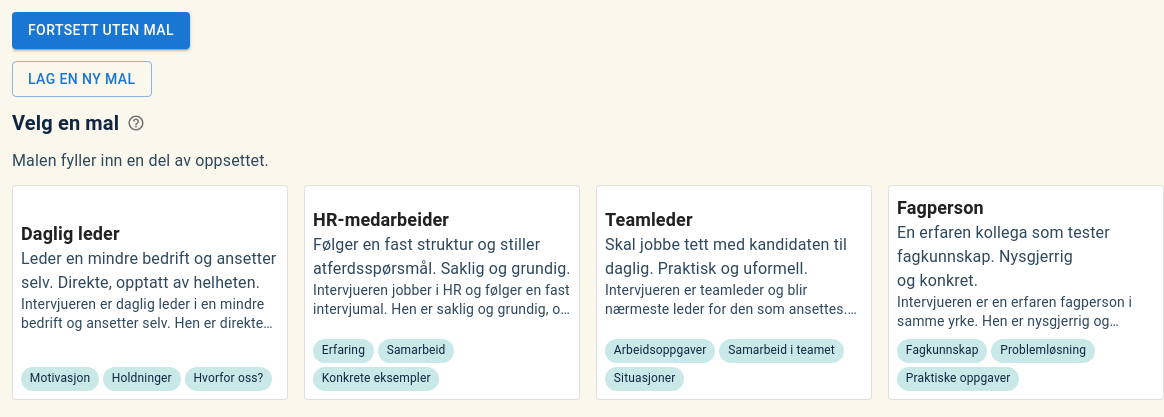
TemplatePicker › shows the interviewer text on the card and in a hover tip
This screenshot has width=1164, height=417.
Expected: the text "Intervjueren er daglig leder i en mindre bedrift" is shown, [21, 296, 276, 400]
Hover over the heading "Daglig leder": (70, 234) [21, 223, 120, 244]
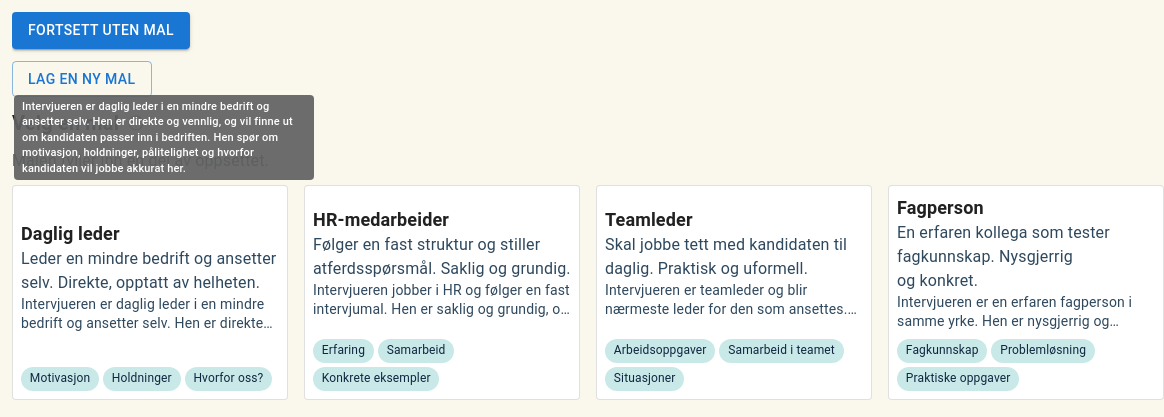
Result: the tooltip shows "Intervjueren er daglig leder i en mindre bedrift" at [22, 100, 293, 175]
